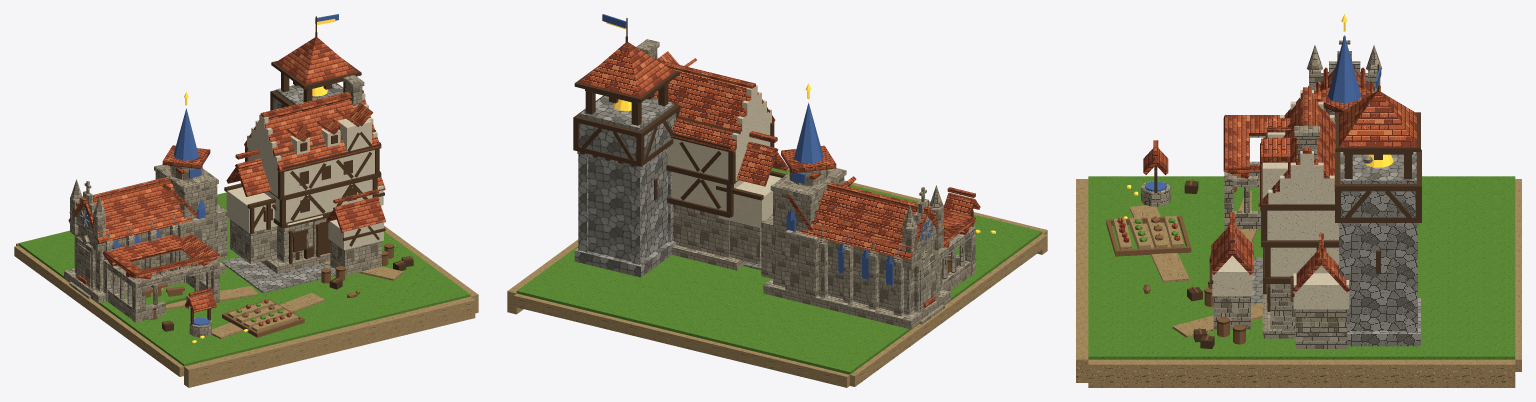
File: abbey_town_diorama_t1.glb
3 views of the same model, side by side, from view 1: azimuth 30°, elevation 25°; view 2: azimuth 150°, elevation 25°; view 3: azimuth 270°, elevation 25° (orthographic). The views are drawn at different scales.
Visible parts, largest first — view 1: grass_top, cliff_front, town_roof_slab_1, church_nave_roof_1, cliff_left_lip, tower_pyramid_roof, town_storey_2, central_plaza, church_crossing, town_west_wing_ground, town_storey_1, front_annex_stone (+29 smaller); view 2: grass_top, tower_base_shaft, cliff_back_lip, town_roof_slab_0, church_nave_roof_0, cliff_left_lip, church_nave, tower_pyramid_roof, church_crossing, church_plinth, town_ground_floor, church_transept (+30 smaller); view 3: grass_top, cliff_right, tower_base_shaft, tower_pyramid_roof, cliff_front, town_storey_2, east_annex_stone, east_annex_plaster, tower_storey_infill, tower_belfry_floor, path_front_curve, cliff_back_lip (+35 smaller).
Part boxes in pixels (x1=…): grass_top: x1=18, y1=192, x2=470, y2=366; cliff_front: x1=184, y1=296, x2=475, y2=387; town_roof_slab_1: x1=265, y1=99, x2=380, y2=172; church_nave_roof_1: x1=84, y1=182, x2=192, y2=243; cliff_left_lip: x1=14, y1=245, x2=183, y2=376; tower_pyramid_roof: x1=275, y1=37, x2=357, y2=84; town_storey_2: x1=248, y1=148, x2=374, y2=196; central_plaza: x1=221, y1=256, x2=335, y2=293; church_crossing: x1=155, y1=165, x2=217, y2=260; town_west_wing_ground: x1=230, y1=219, x2=276, y2=263; town_storey_1: x1=264, y1=179, x2=372, y2=222; front_annex_stone: x1=330, y1=240, x2=381, y2=275; grass_top: x1=516, y1=168, x2=1042, y2=374; tower_base_shaft: x1=588, y1=150, x2=667, y2=261; cliff_back_lip: x1=513, y1=293, x2=849, y2=387; town_roof_slab_0: x1=653, y1=74, x2=755, y2=152; church_nave_roof_0: x1=801, y1=188, x2=927, y2=260; cliff_left_lip: x1=850, y1=234, x2=1047, y2=386; church_nave: x1=828, y1=239, x2=938, y2=315; tower_pyramid_roof: x1=579, y1=42, x2=674, y2=97; church_crossing: x1=773, y1=168, x2=844, y2=286; church_plinth: x1=763, y1=279, x2=950, y2=329; town_ground_floor: x1=673, y1=204, x2=729, y2=257; church_transept: x1=785, y1=230, x2=819, y2=297; grass_top: x1=1088, y1=176, x2=1515, y2=359; cliff_right: x1=1088, y1=359, x2=1515, y2=387; tower_base_shaft: x1=1349, y1=226, x2=1406, y2=330; tower_pyramid_roof: x1=1339, y1=91, x2=1417, y2=146; cliff_front: x1=1076, y1=179, x2=1088, y2=382; town_storey_2: x1=1267, y1=210, x2=1338, y2=240; east_annex_stone: x1=1295, y1=309, x2=1347, y2=348; east_annex_plaster: x1=1293, y1=273, x2=1349, y2=309; tower_storey_infill: x1=1341, y1=191, x2=1415, y2=217; tower_belfry_floor: x1=1340, y1=152, x2=1416, y2=183; path_front_curve: x1=1129, y1=205, x2=1189, y2=282; cliff_back_lip: x1=1515, y1=179, x2=1521, y2=371.
Size of what is drawn, in the model's own units: 12.58 by 9.04 by 12.52.
Materials: 10 (6 with a texture image).
